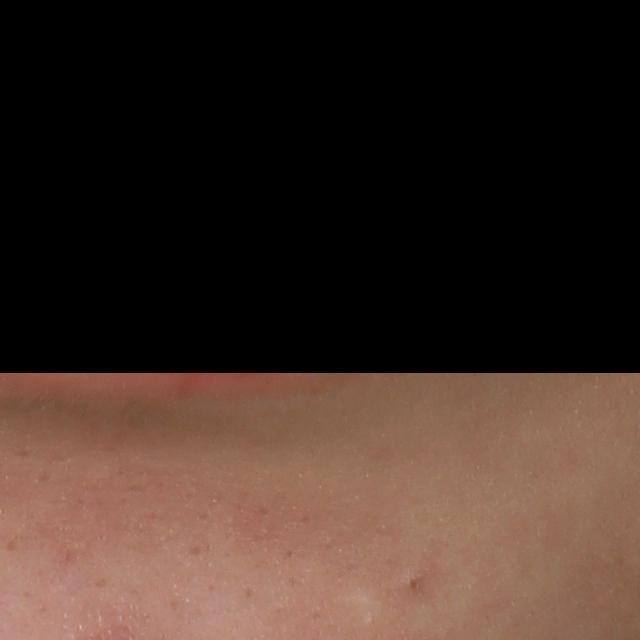comedo: (402, 570, 426, 592)
hypertrophic_scar: (342, 589, 387, 639)
